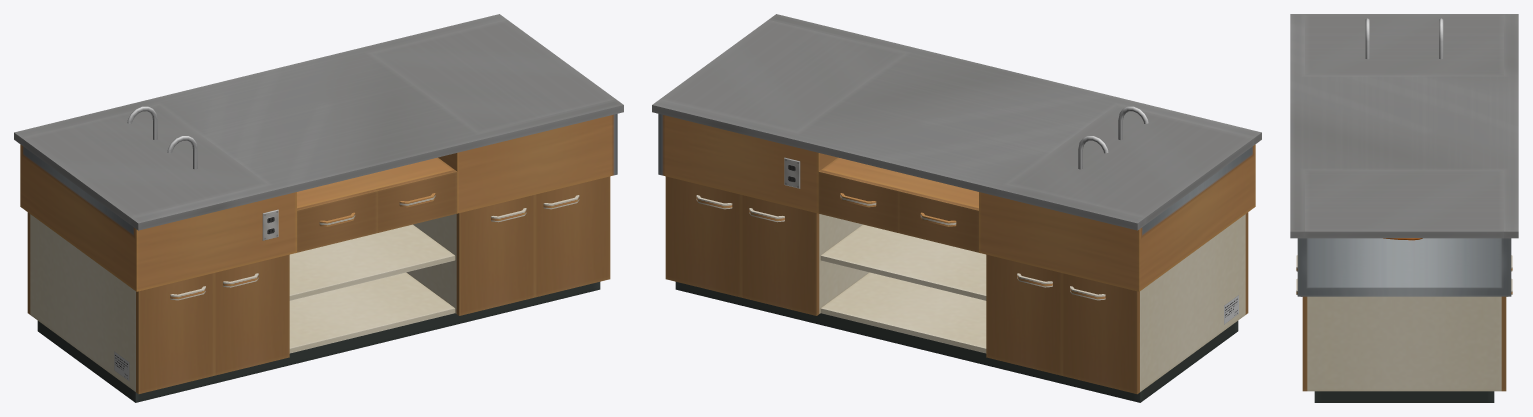
Rendered from KR_Counter_01_02.fbx.
3 renders of one model, left to right at view 1: azimuth 30°, elevation 25°; view 2: azimuth 150°, elevation 25°; view 3: azimuth 270°, elevation 25°, orthographic. The views are drawn at different scales.
Parts seen in each view (by area): view 1: counter_for_students, tabletop2, tabletop1, door1_l, door2_l, door1_r, door2_r, drawer2, drawer1; view 2: counter_for_students, tabletop2, tabletop1, door3_r, door4_r, door3_l, door4_l, drawer3, drawer4; view 3: counter_for_students, tabletop1, tabletop2, door2_r, door4_l.
Part boxes in pixels (<box>): counter_for_students: <box>14,14,623,402</box>; tabletop2: <box>22,104,267,224</box>; tabletop1: <box>370,20,615,132</box>; door1_l: <box>136,273,214,394</box>; door2_l: <box>456,195,534,315</box>; door1_r: <box>214,254,289,375</box>; door2_r: <box>535,176,610,297</box>; drawer2: <box>375,170,457,232</box>; drawer1: <box>297,189,377,252</box>; counter_for_students: <box>652,14,1261,402</box>; tabletop2: <box>1008,104,1253,224</box>; tabletop1: <box>660,20,905,132</box>; door3_r: <box>1061,273,1139,394</box>; door4_r: <box>741,195,819,315</box>; door3_l: <box>986,254,1061,375</box>; door4_l: <box>665,176,740,297</box>; drawer3: <box>818,170,900,232</box>; drawer4: <box>898,189,978,252</box>; counter_for_students: <box>1290,14,1518,402</box>; tabletop1: <box>1305,170,1503,238</box>; tabletop2: <box>1305,14,1503,75</box>; door2_r: <box>1296,278,1307,391</box>; door4_l: <box>1501,278,1512,391</box>.
Size of the model in its own units: 212 by 94.85 by 94.
